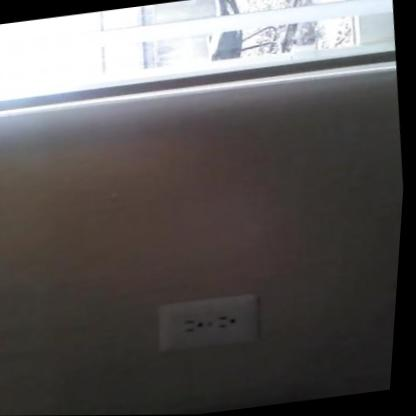OUTLET: (152, 295, 262, 353)
